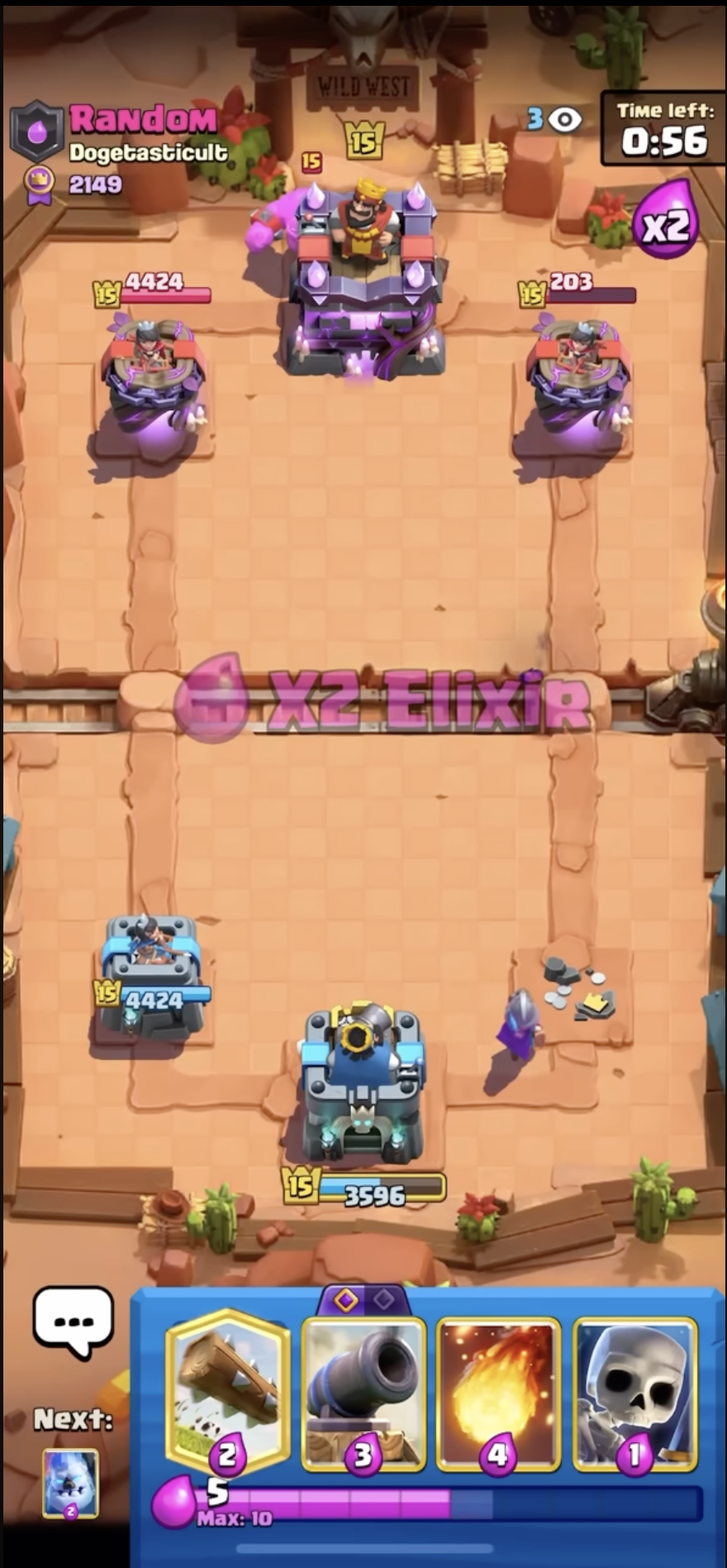evo_musketeer: (482, 973, 554, 1090)
